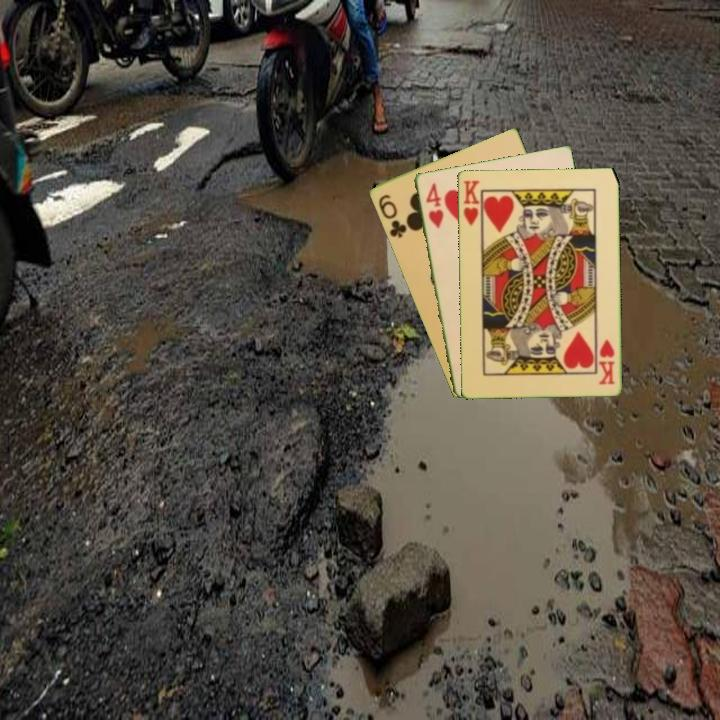4h: (422, 179, 446, 231)
6c: (374, 190, 409, 241)
Kh: (460, 176, 484, 232), (595, 335, 617, 387)
